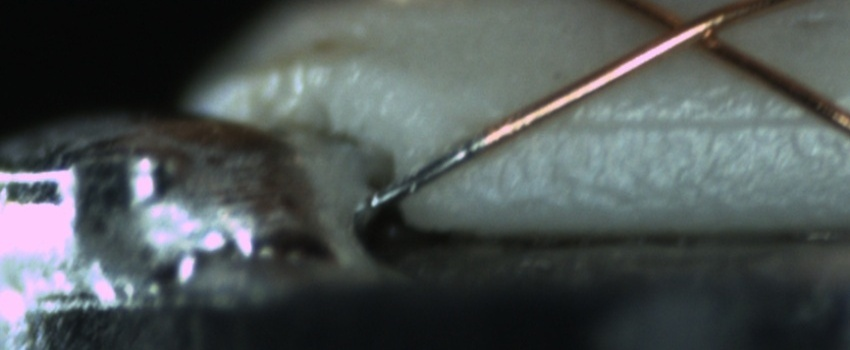CL: (633, 2, 736, 62)
DL: (548, 96, 834, 159)
TS: (370, 136, 488, 207)
TTCW: (369, 115, 529, 211)
